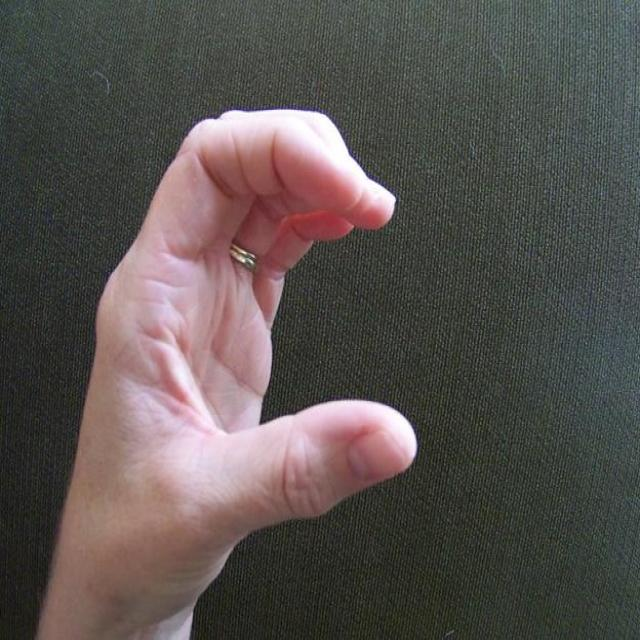C: (40, 102, 421, 625)
